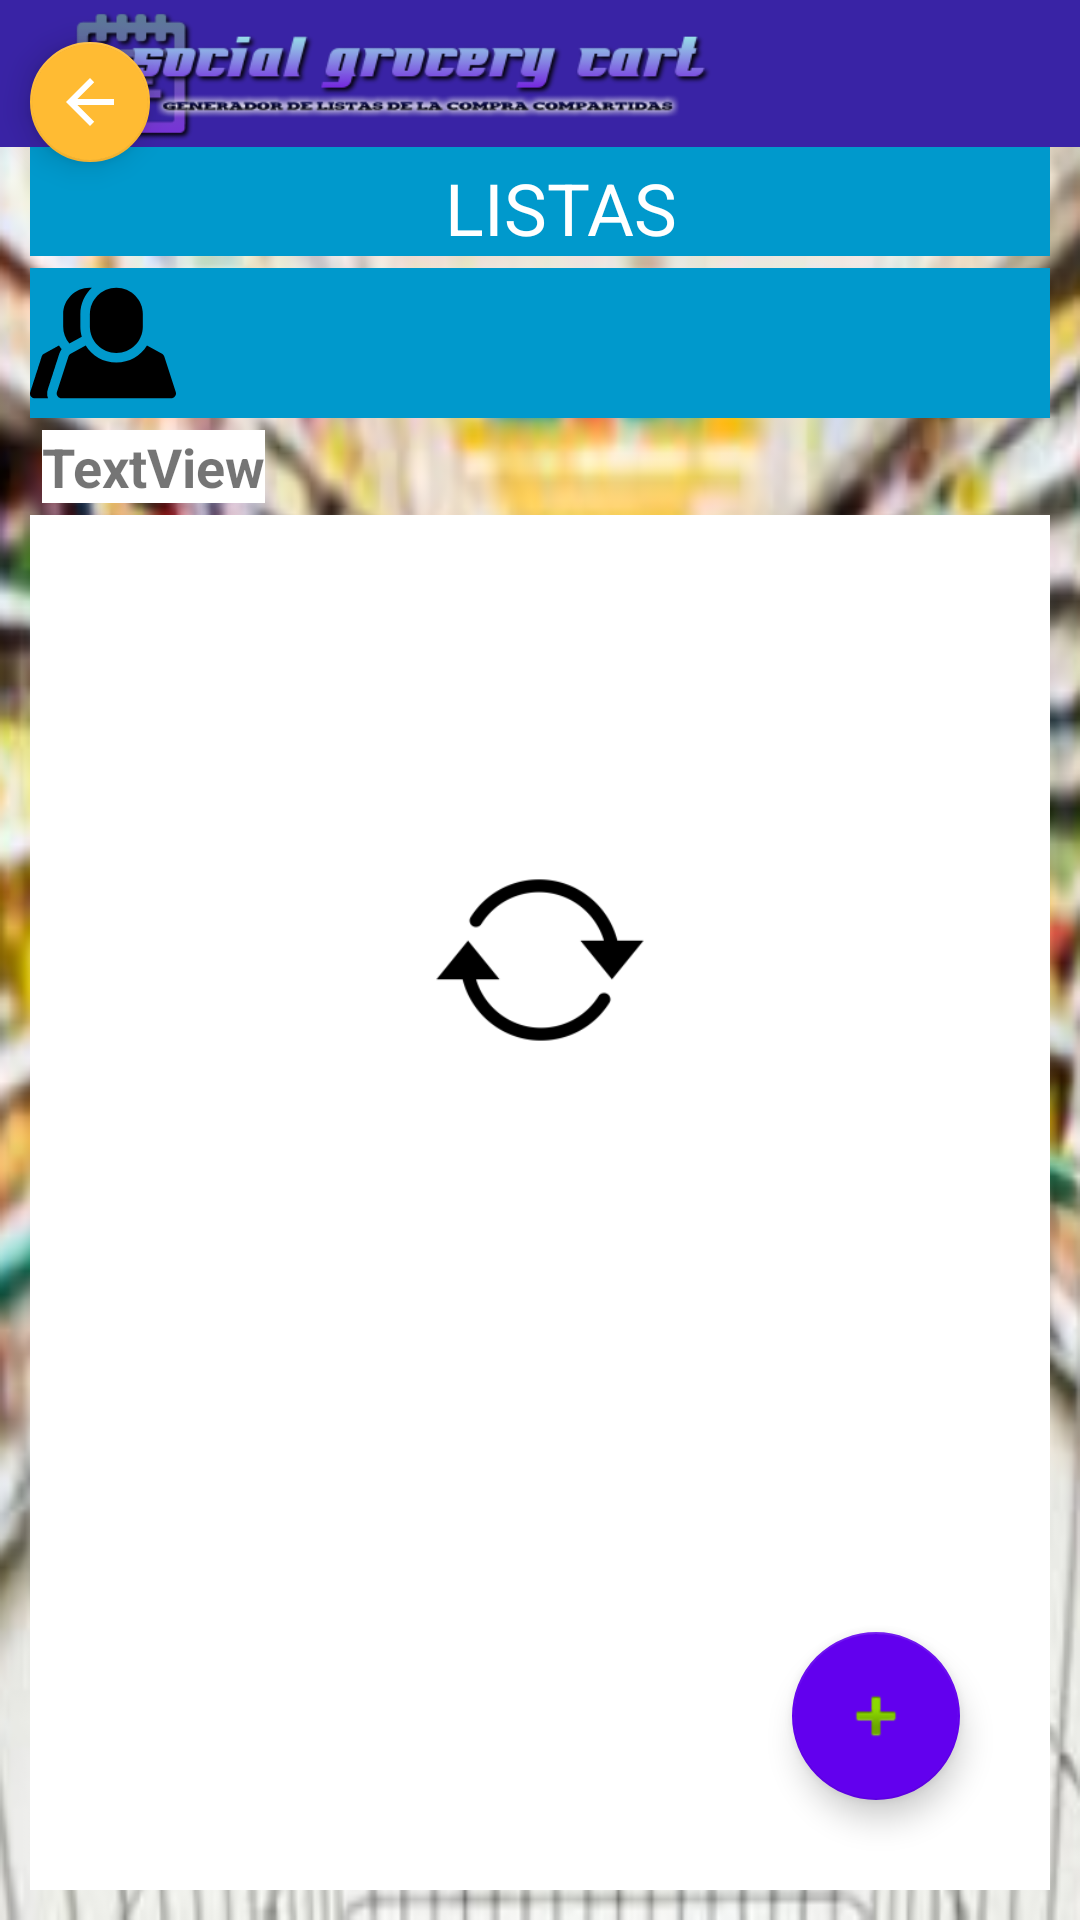

Where to tap for icons on this 1080×1920 app screen, as (x,y):
add: (876,1716)
cambiar: (540,960)
usuario: (103,343)
